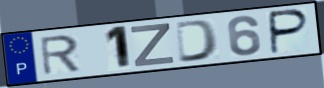1: (103, 24, 134, 71)
6: (225, 14, 262, 58)
D: (173, 18, 221, 64)
P: (269, 8, 312, 56)
R: (37, 33, 83, 77)
Z: (129, 22, 177, 69)
